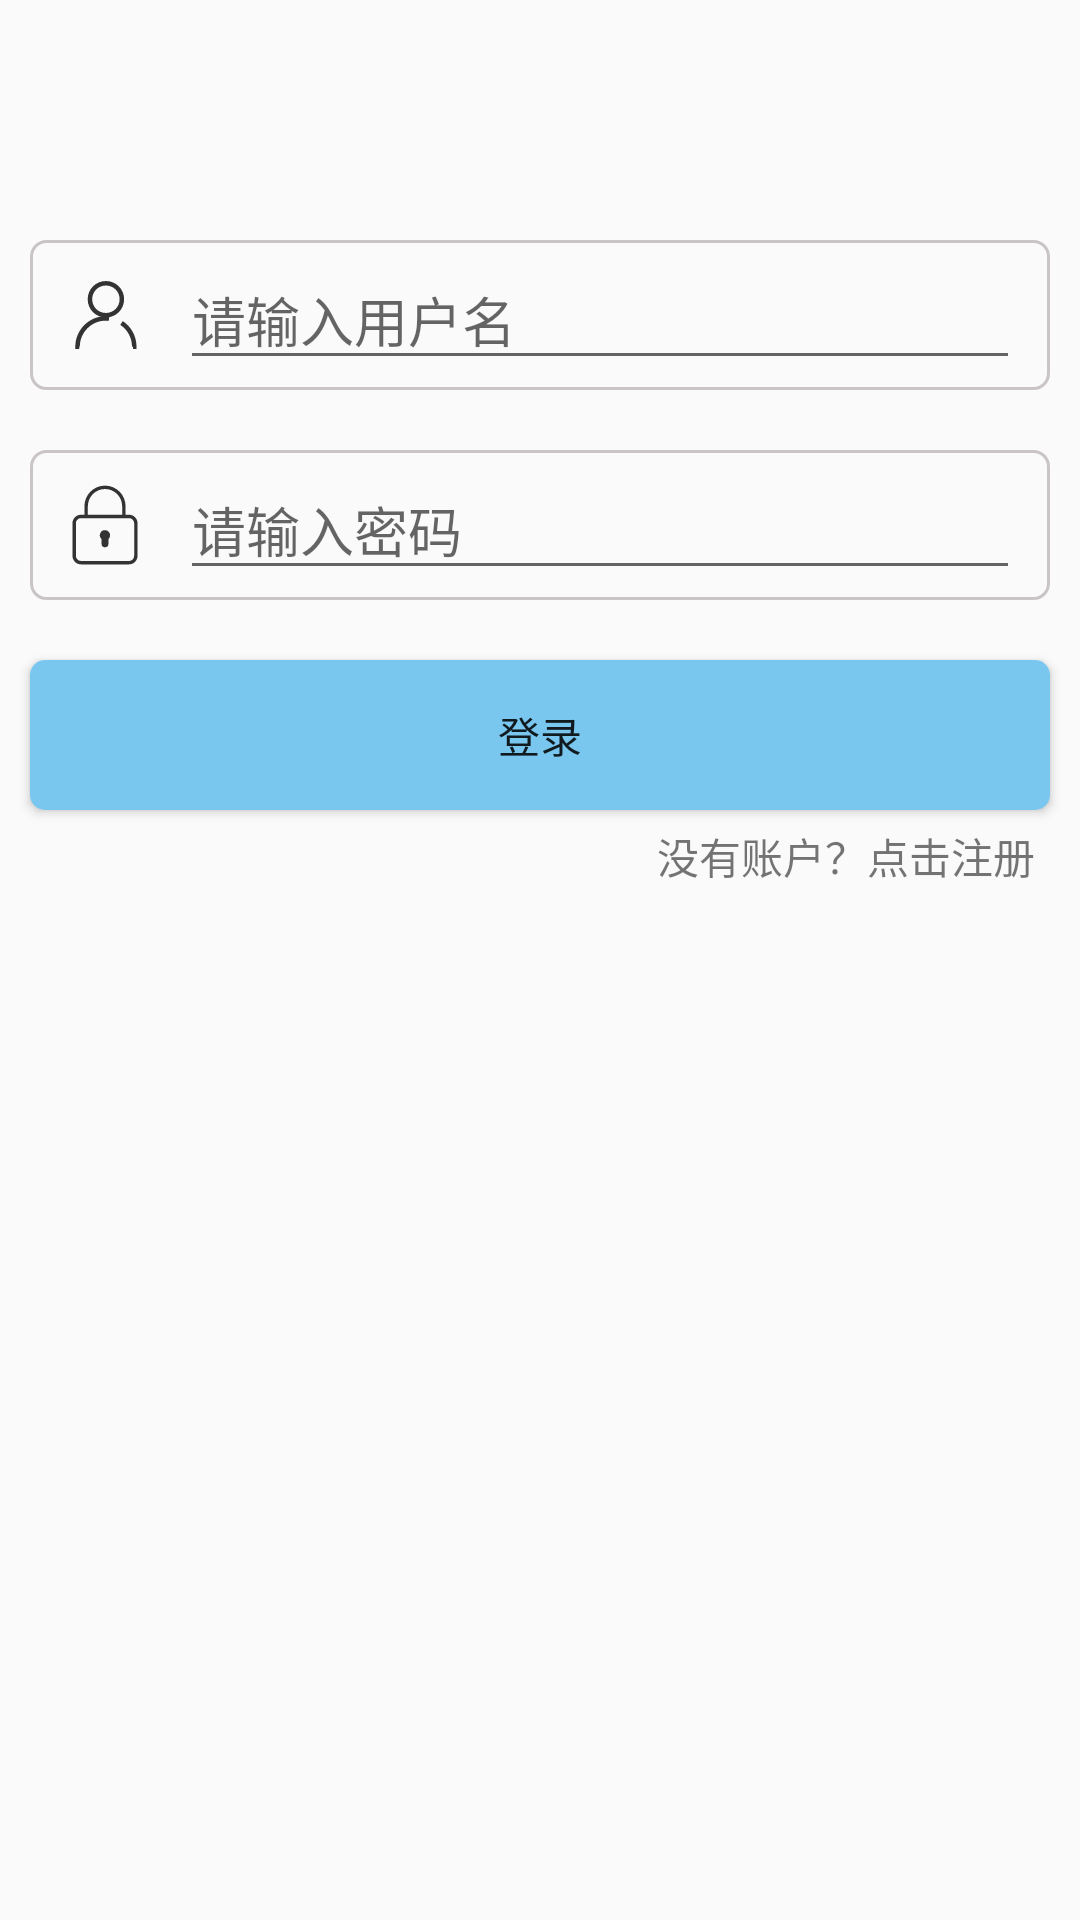

Named icons in this screenshot (1080×1920) and their bounding boxes, (x1, y1, x2, y2):
password: (72, 485, 138, 565)
user: (75, 281, 137, 349)
